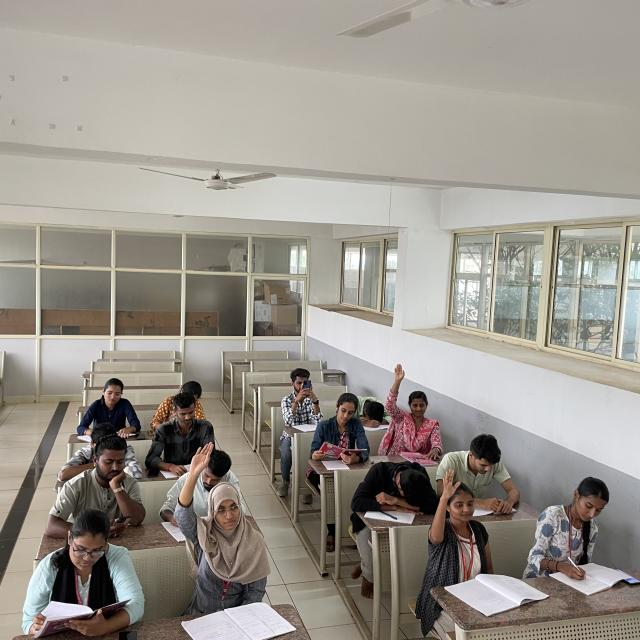Hand Rising: (169, 439, 276, 599), (416, 461, 494, 575), (382, 358, 441, 450)
Reading: (16, 508, 146, 632), (38, 436, 152, 538), (436, 436, 521, 518), (312, 394, 372, 472)
Sleeping: (347, 454, 437, 521), (47, 424, 140, 482), (344, 389, 394, 430)
Using Phone: (277, 363, 328, 431)
Writing: (524, 477, 636, 591)
